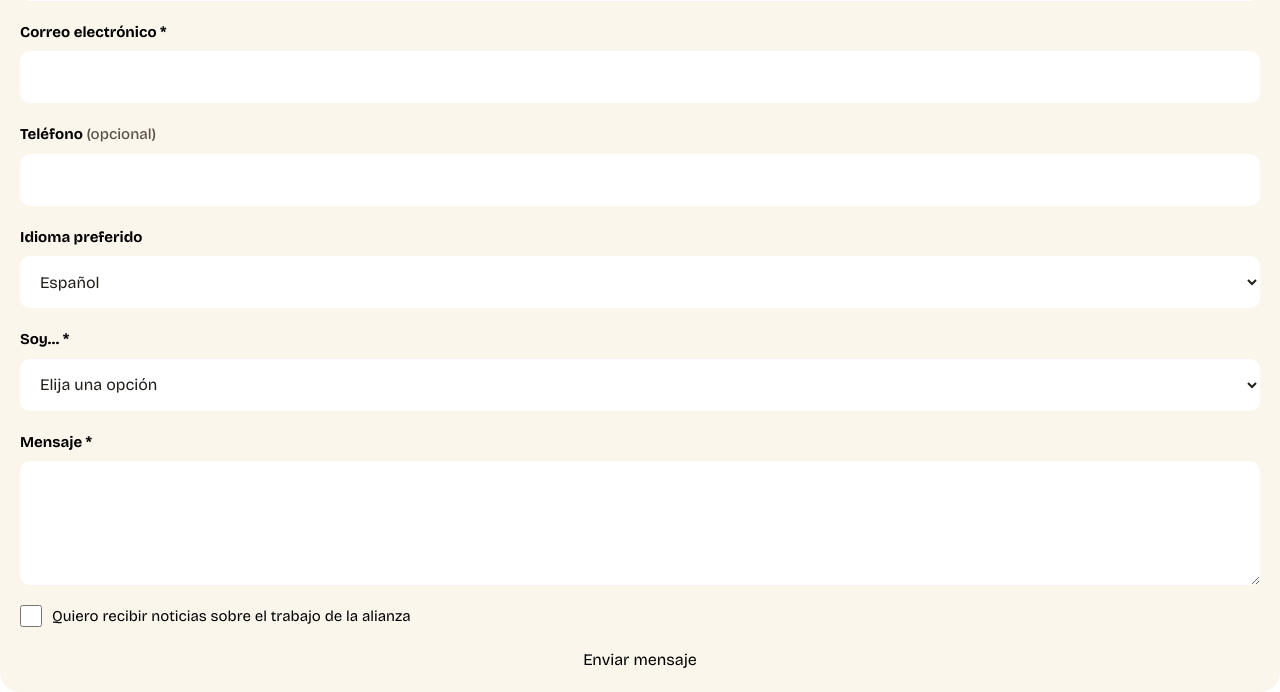
Test case: ContactForm › flags every missing field in es and focuses the first
(page scrolled)
Step 1. Click the button "Enviar mensaje" → (640, 660), box [20, 648, 1260, 672]
(page scrolled)
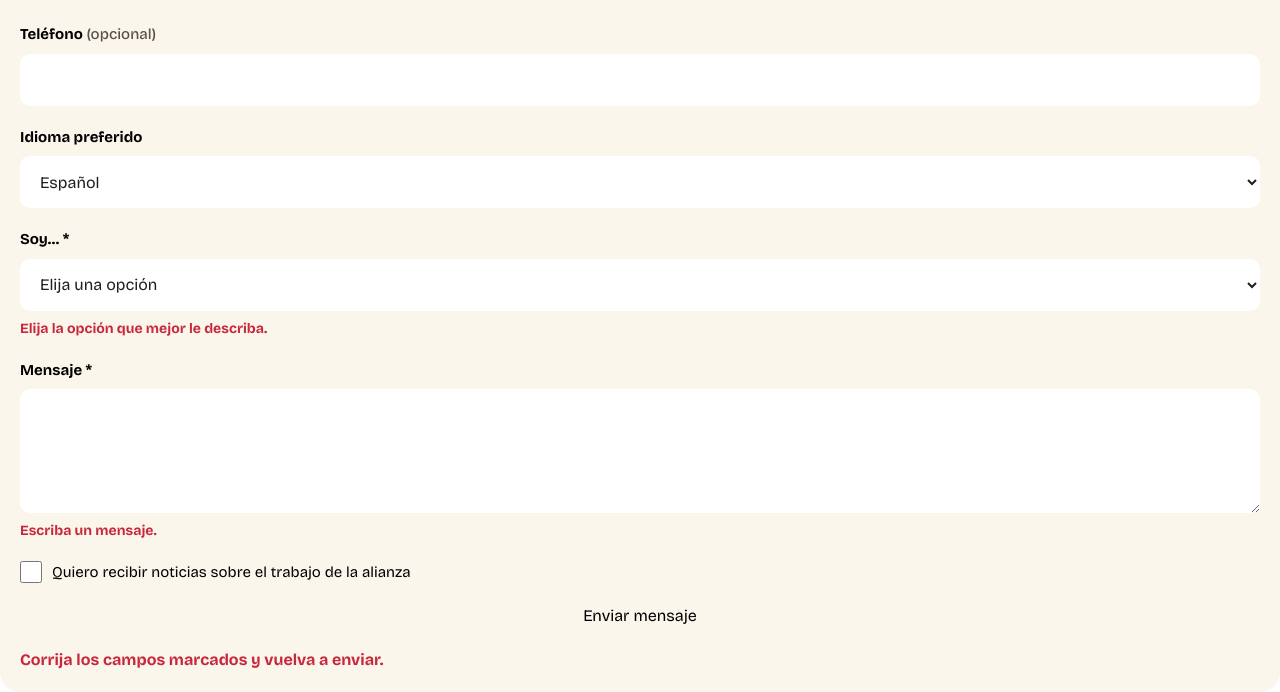
expect the message reads "Corrija los campos marcados y vuelva a enviar.": met, box [20, 650, 384, 668]
